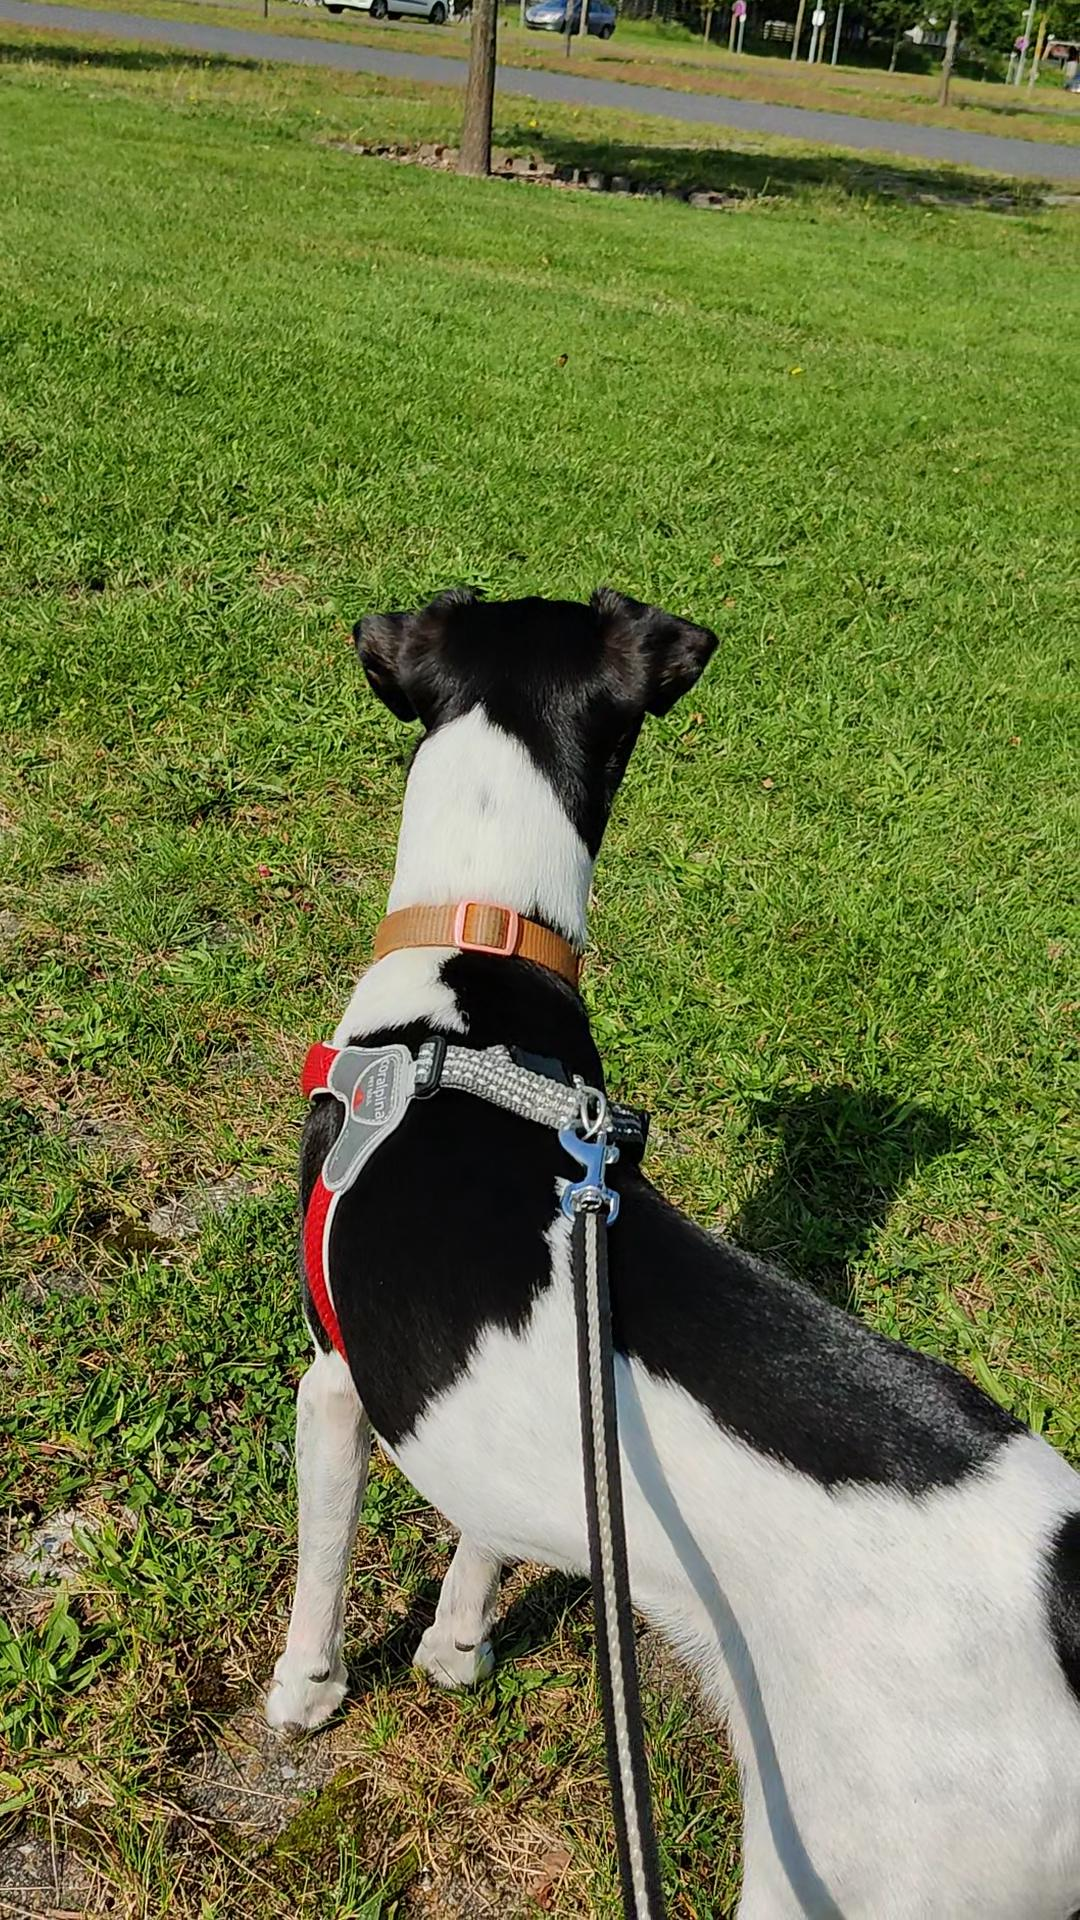Dog: (255, 571, 1079, 1919)
